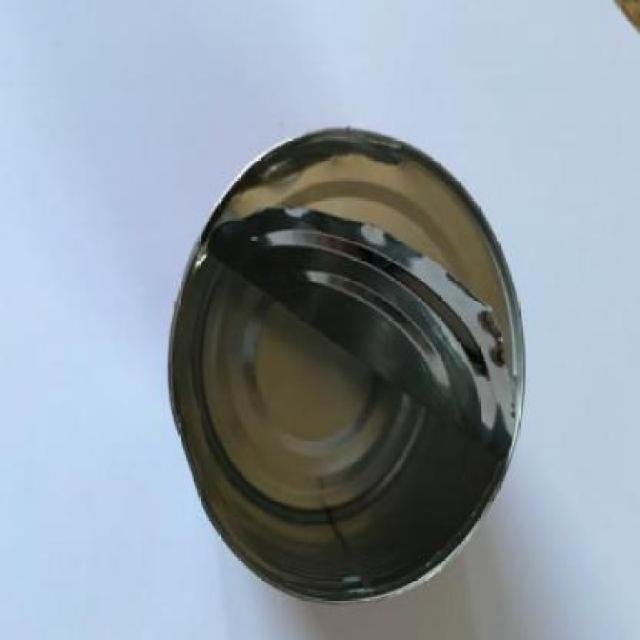METAL: (169, 130, 526, 607)
